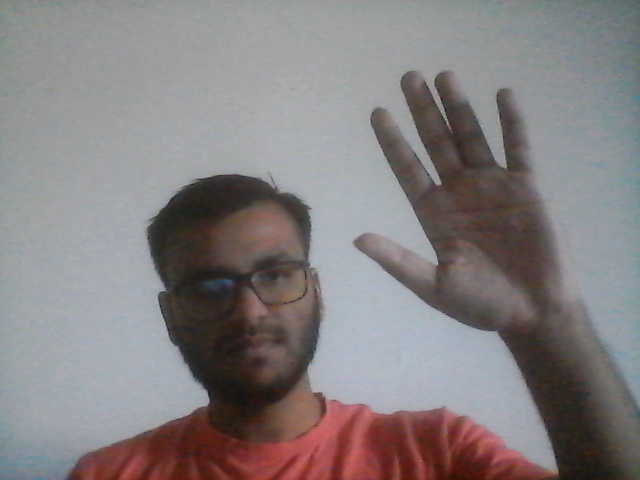Hello: (344, 61, 586, 341)
